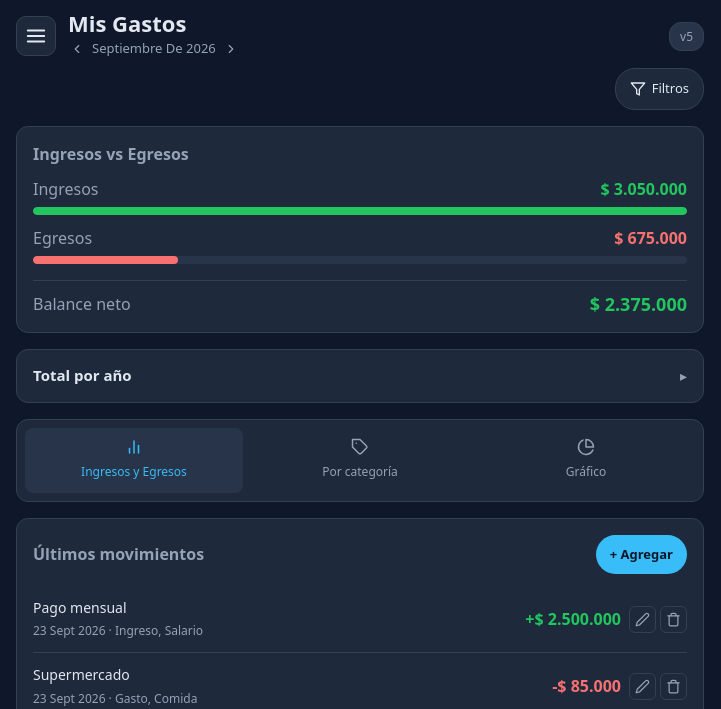
Dashboard: agregar/eliminar actualiza las secciones › el panel de total por año se despliega y muestra el resumen del año
Expected: the heading "Ingresos vs Egresos" is shown, [33, 143, 189, 165]
Click the button "Total por año ▸" at (82, 375), box [17, 350, 703, 402]
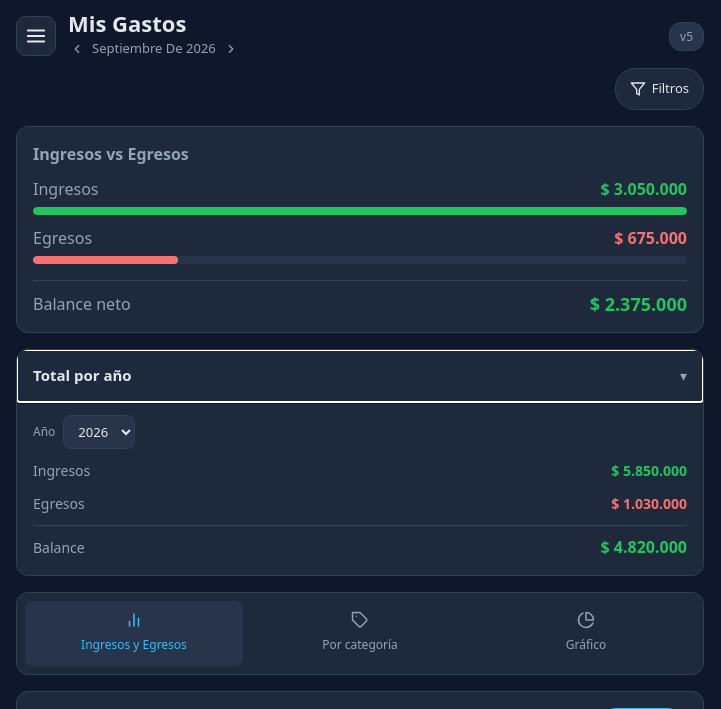
Expected: the text "Balance" is shown, [33, 536, 85, 559]
Expected: the dropdown labelled "Año" is shown, [63, 415, 135, 449]
